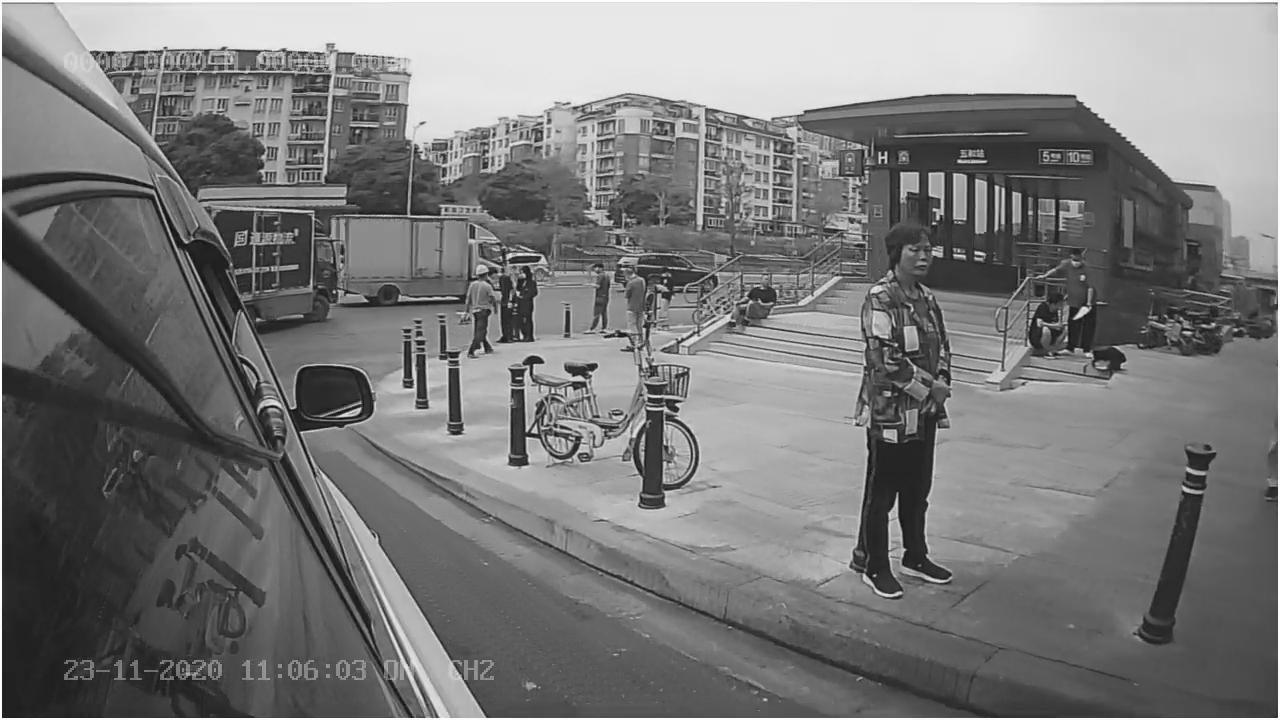person: (842, 216, 977, 604)
